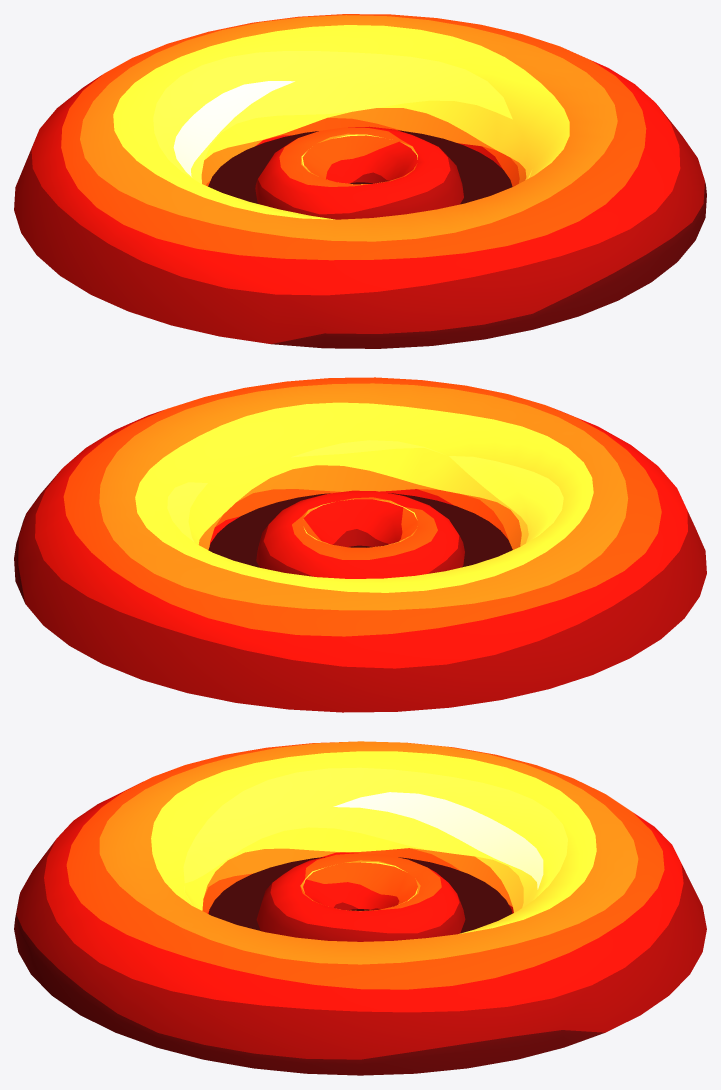
File: shot_turret_158.glb
The picture shows the model from 3 angles, top to bottom: view 1: azimuth 30°, elevation 25°; view 2: azimuth 150°, elevation 25°; view 3: azimuth 270°, elevation 25°; orthographic projection.
Parts seen in each view (by area): view 1: shot_turret_158_ring0, shot_turret_158_ring1, shot_turret_158_membrane; view 2: shot_turret_158_ring0, shot_turret_158_ring1, shot_turret_158_membrane; view 3: shot_turret_158_ring0, shot_turret_158_ring1, shot_turret_158_membrane.
Part boxes in pixels (x1,y1,x2,y2): shot_turret_158_ring0: (14, 14, 706, 348); shot_turret_158_ring1: (255, 126, 463, 219); shot_turret_158_membrane: (208, 130, 512, 204); shot_turret_158_ring0: (14, 377, 706, 712); shot_turret_158_ring1: (256, 490, 464, 578); shot_turret_158_membrane: (208, 493, 512, 567); shot_turret_158_ring0: (14, 741, 706, 1075); shot_turret_158_ring1: (256, 853, 465, 941); shot_turret_158_membrane: (208, 857, 512, 933).
Size of the model in its own units: 12 by 1.5 by 12.
